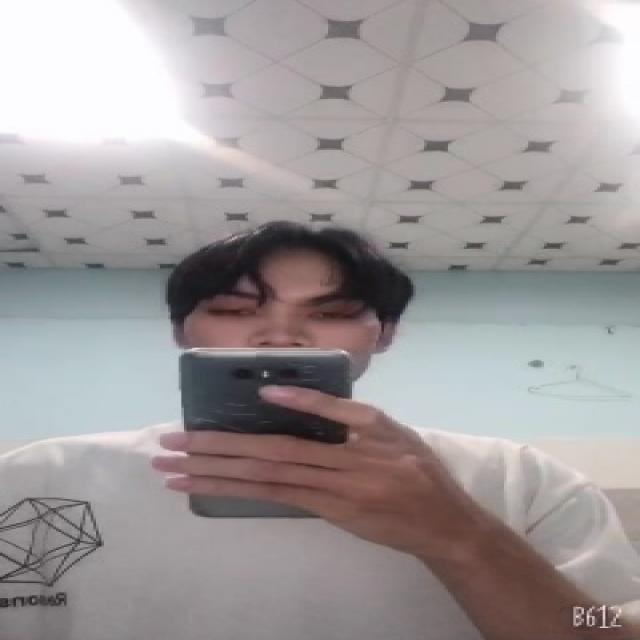Phone: (176, 346, 355, 521)
